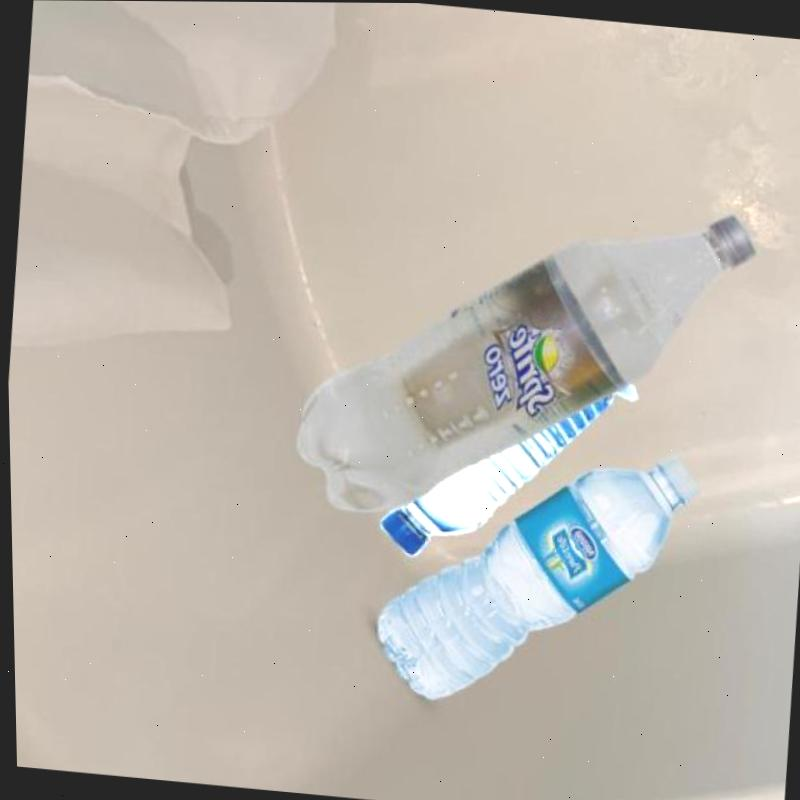botella: (282, 173, 758, 543), (363, 432, 702, 724), (371, 374, 618, 573)
